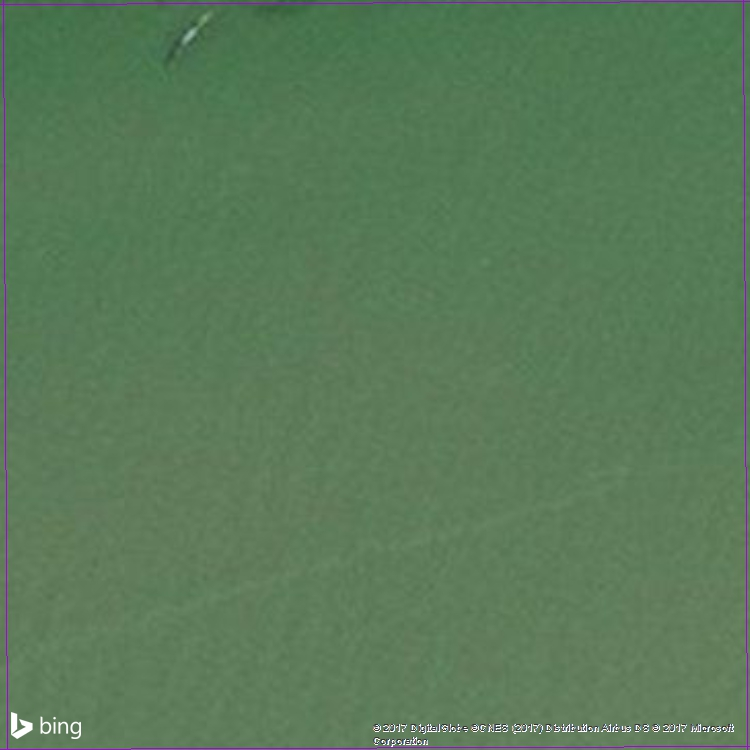boat: (157, 1, 225, 79)
